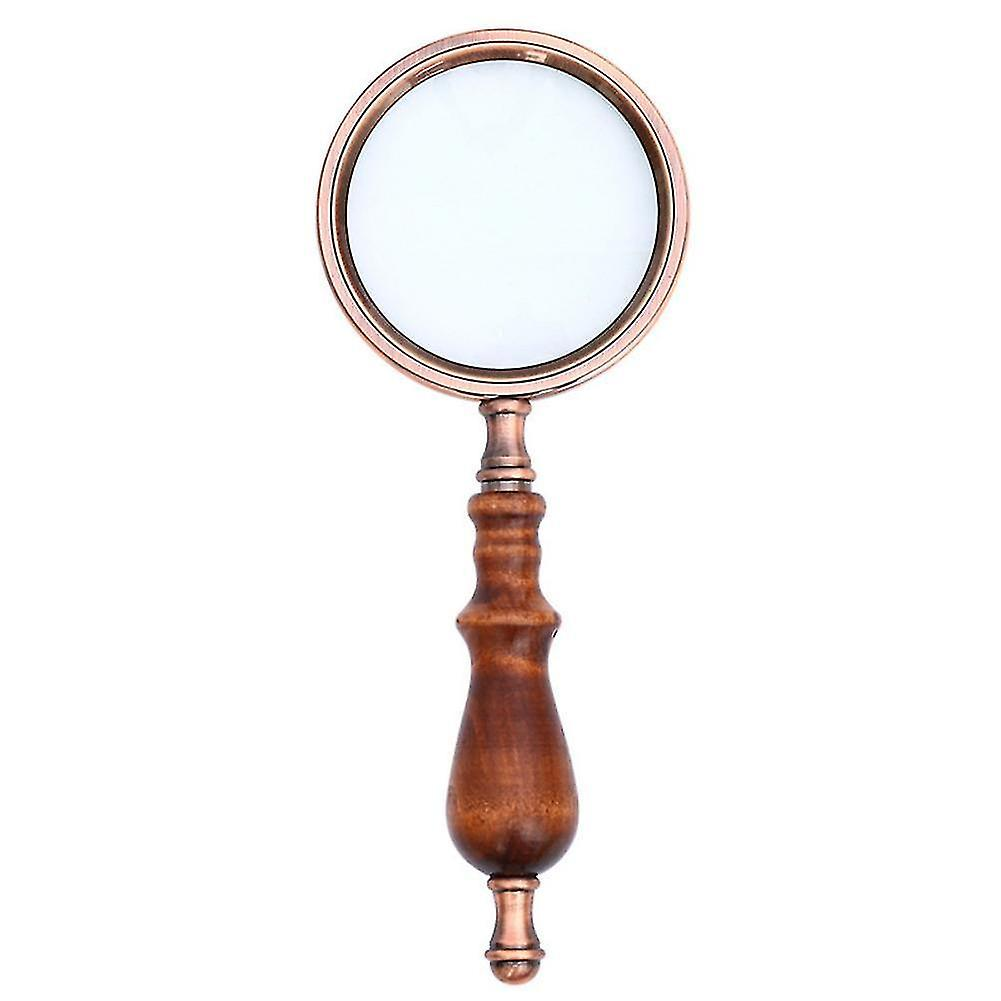magnifying-glass: (304, 21, 747, 561)
